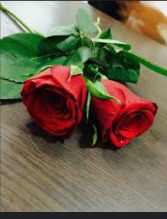RedRose: (92, 72, 158, 152), (23, 63, 89, 142)
